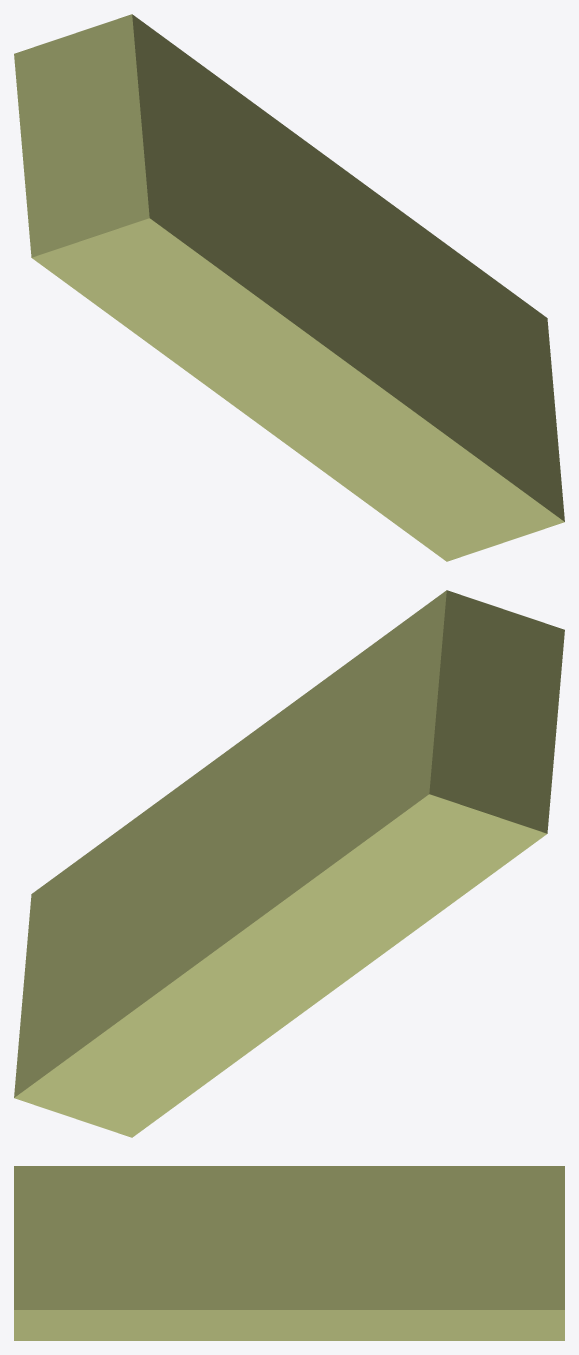
3 renders of one model, top to bottom at view 1: azimuth 30°, elevation 25°; view 2: azimuth 150°, elevation 25°; view 3: azimuth 270°, elevation 25°, orthographic. The views are drawn at different scales.
Visible parts, largest first — view 1: 0_2_3_3_3_1_0_2_0_3_1_3_3; view 2: 0_2_3_3_3_1_0_2_0_3_1_3_3; view 3: 0_2_3_3_3_1_0_2_0_3_1_3_3.
Boxes of the visible parts, x1,y1,x2,y2 form: 0_2_3_3_3_1_0_2_0_3_1_3_3: [14, 14, 564, 561]; 0_2_3_3_3_1_0_2_0_3_1_3_3: [14, 590, 564, 1137]; 0_2_3_3_3_1_0_2_0_3_1_3_3: [14, 1166, 564, 1340].
Bounding box in the file's own units: 1.7 × 2.62 × 9.
